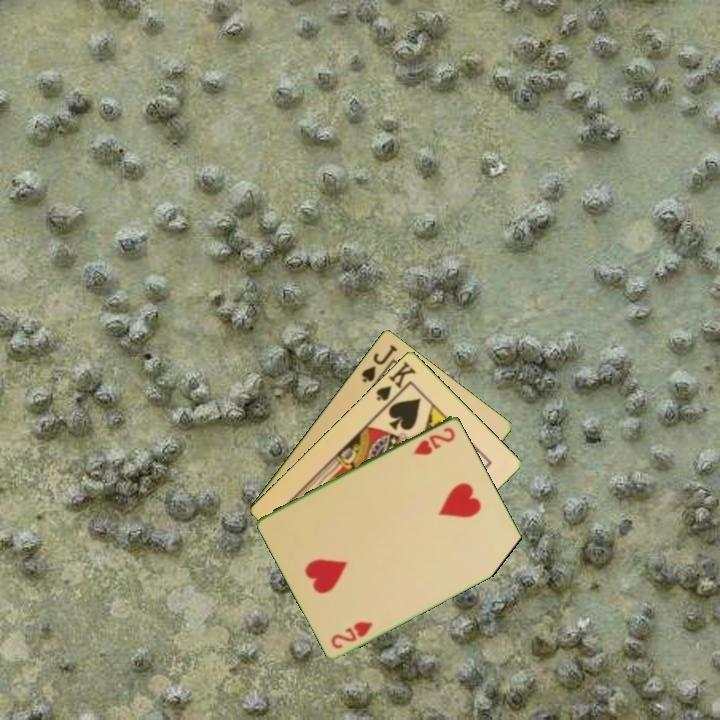2h: (410, 423, 458, 458), (328, 617, 376, 651)
Js: (358, 341, 400, 385)
Ks: (372, 357, 419, 403)
